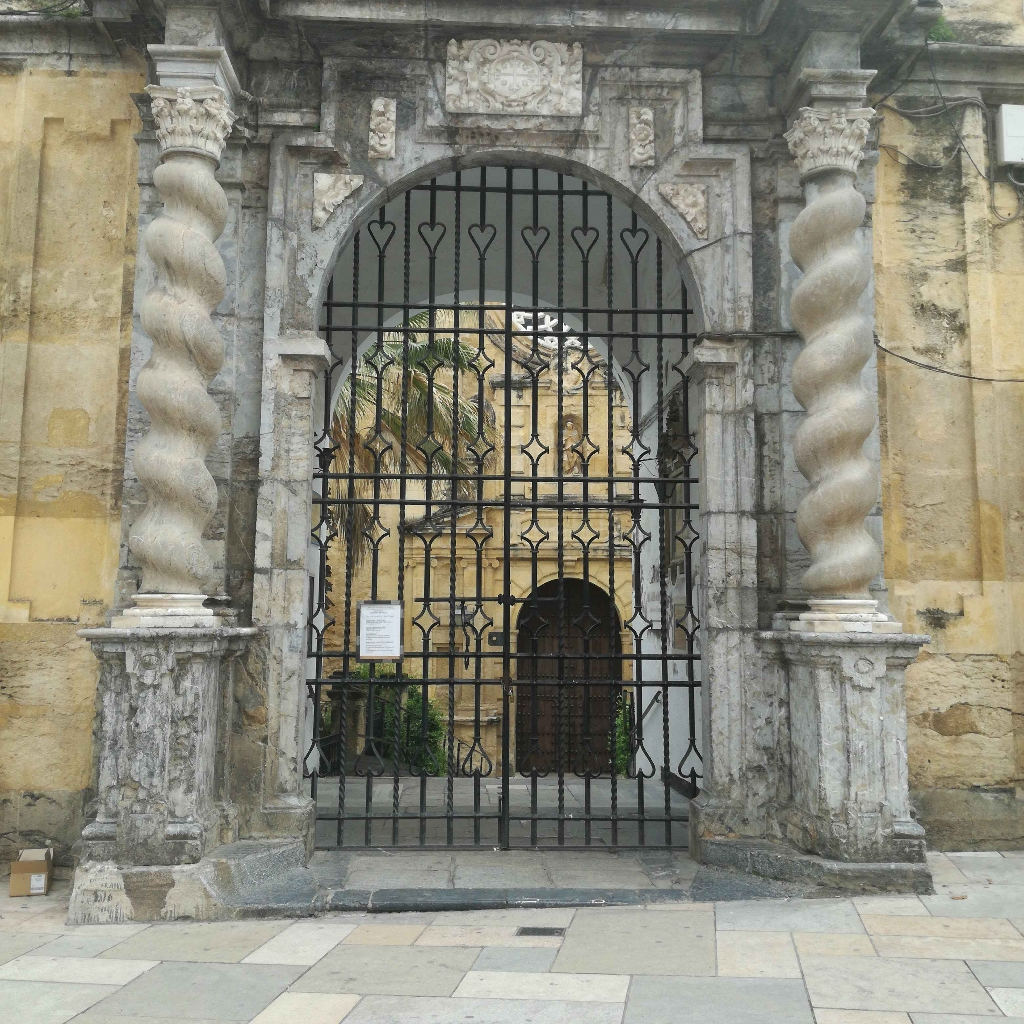arco-medio-punto: (282, 124, 708, 406)
columna-salomonica: (117, 141, 240, 621), (780, 155, 890, 603)
